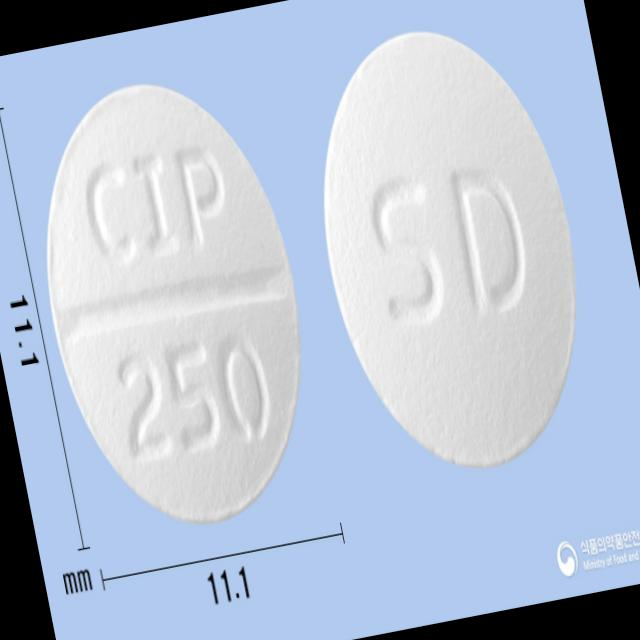Wooridul Ciprofloxacin Tab: (10, 60, 338, 548), (287, 8, 614, 492)
